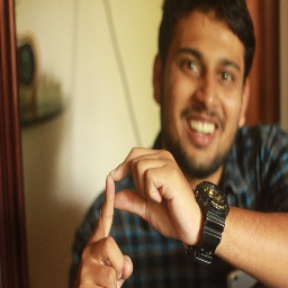P: (76, 145, 193, 288)
